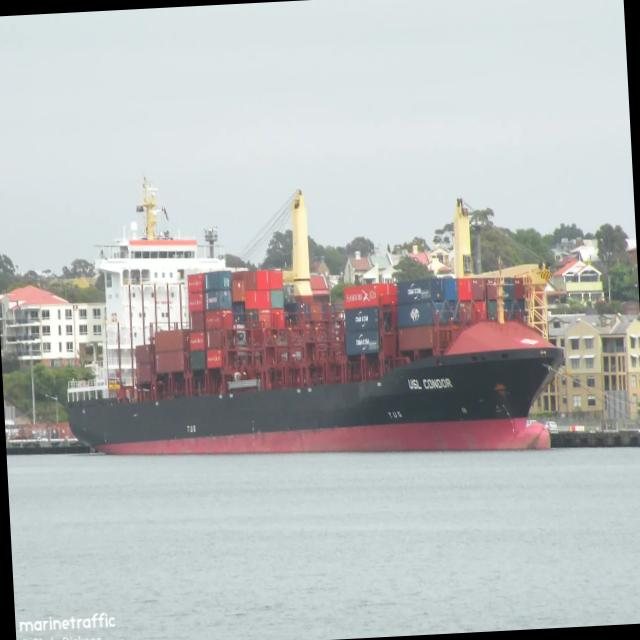Cargo: (67, 183, 562, 453)
